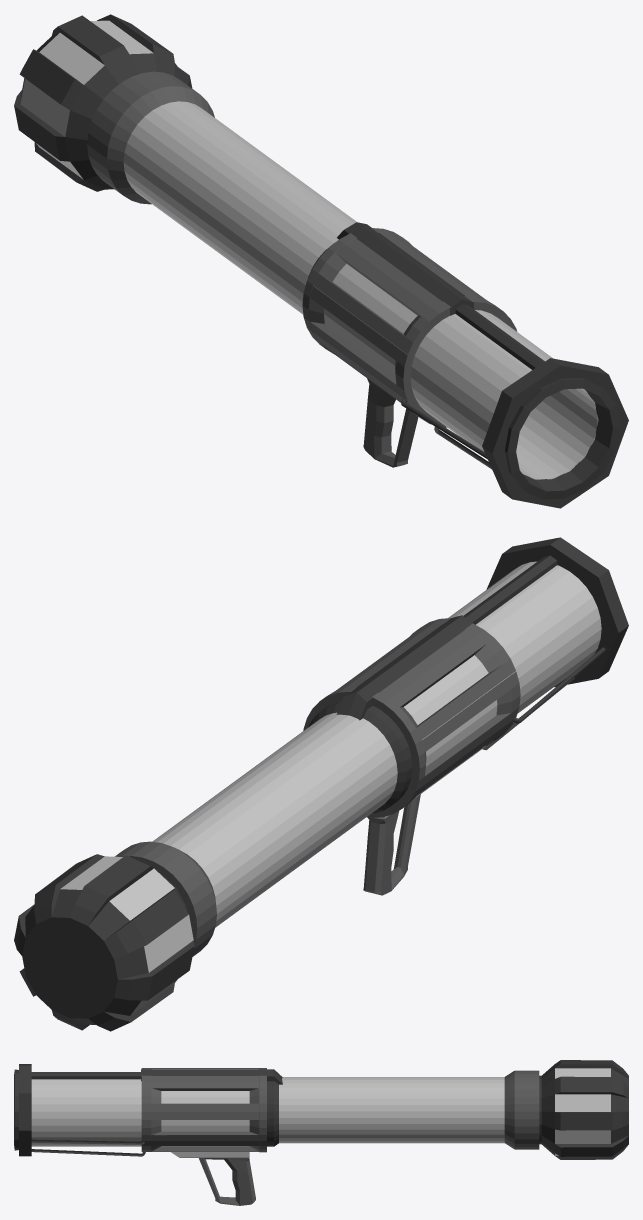
Rendered from RocketLauncher.fbx.
3 views of the same model, one above another, from view 1: azimuth 30°, elevation 25°; view 2: azimuth 150°, elevation 25°; view 3: azimuth 270°, elevation 25° (orthographic). The views are drawn at different scales.
Visible parts, largest first — view 1: Cylinder, Cylinder.003, Cylinder.001, Cylinder.002, Cube, Plane, Cylinder.004; view 2: Cylinder, Cylinder.003, Cylinder.001, Cube, Plane, Cylinder.004; view 3: Cylinder, Cylinder.003, Cube, Plane, Cylinder.001, Cylinder.004, Cylinder.002.
Boxes of the visible parts, left/top/right/bottom form: Cylinder: left=87, top=71, right=598, bottom=479; Cylinder.003: left=14, top=14, right=192, bottom=191; Cylinder.001: left=482, top=358, right=628, bottom=508; Cylinder.002: left=505, top=378, right=620, bottom=499; Cube: left=337, top=222, right=544, bottom=369; Plane: left=363, top=378, right=418, bottom=467; Cylinder.004: left=401, top=398, right=491, bottom=469; Cylinder: left=115, top=561, right=601, bottom=956; Cylinder.003: left=14, top=854, right=194, bottom=1031; Cylinder.001: left=486, top=537, right=628, bottom=687; Cube: left=336, top=555, right=557, bottom=720; Plane: left=363, top=794, right=420, bottom=895; Cylinder.004: left=482, top=647, right=605, bottom=750; Cylinder: left=31, top=1068, right=539, bottom=1157; Cylinder.003: left=539, top=1060, right=628, bottom=1159; Cube: left=31, top=1069, right=282, bottom=1084; Plane: left=199, top=1158, right=255, bottom=1205; Cylinder.001: left=19, top=1064, right=31, bottom=1156; Cylinder.004: left=31, top=1139, right=145, bottom=1156; Cylinder.002: left=14, top=1069, right=18, bottom=1150.
Size of the model in its own units: 204 by 312 by 1253.
